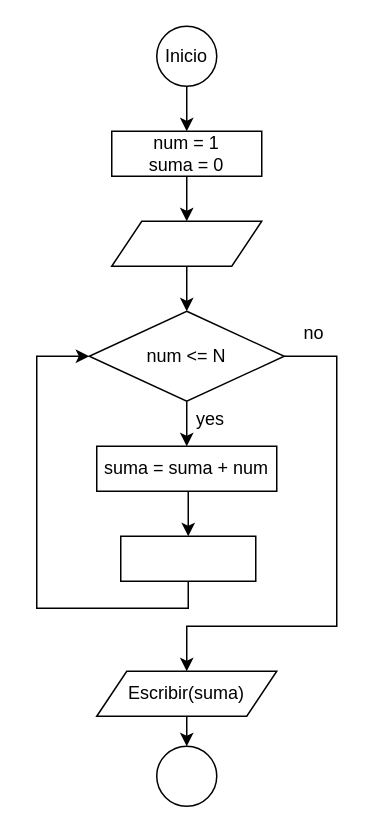
Image size: 375x833. Some labels were removed from this diagram. The shapes that lost their labels are listed below. From the top down, each one's centre as x and y in pixels, then its label:
At (186,243): "Leer(N)".
At (187,558): "num = num + 1".
At (186,775): "Fin".
